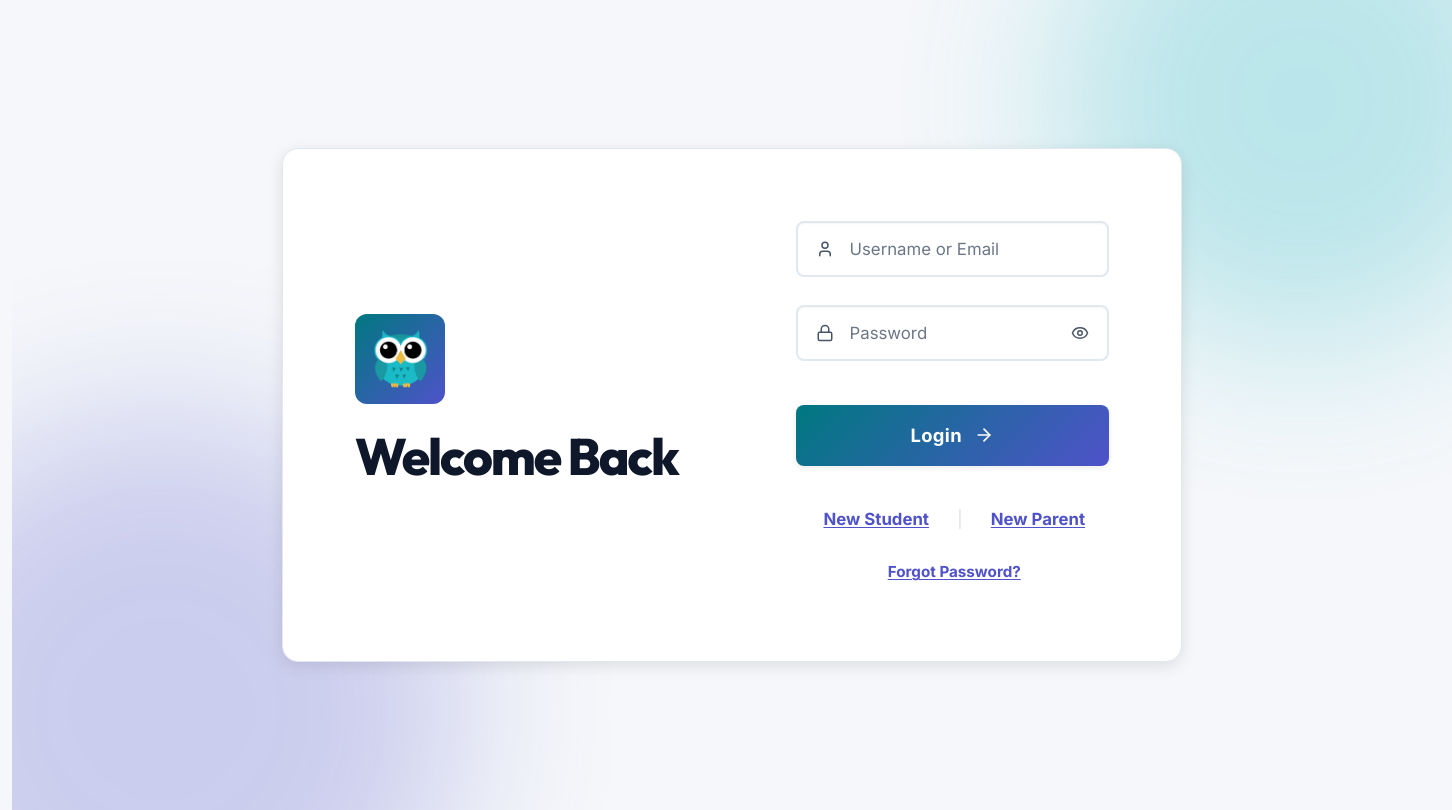
Test: Login Component › where the user is sent › finishes connecting a parent to a child when a connection code is waiting
Type "testuser" into the field with placeholder "Username or Email". click: (952, 249)
box: [796,221,1109,277]
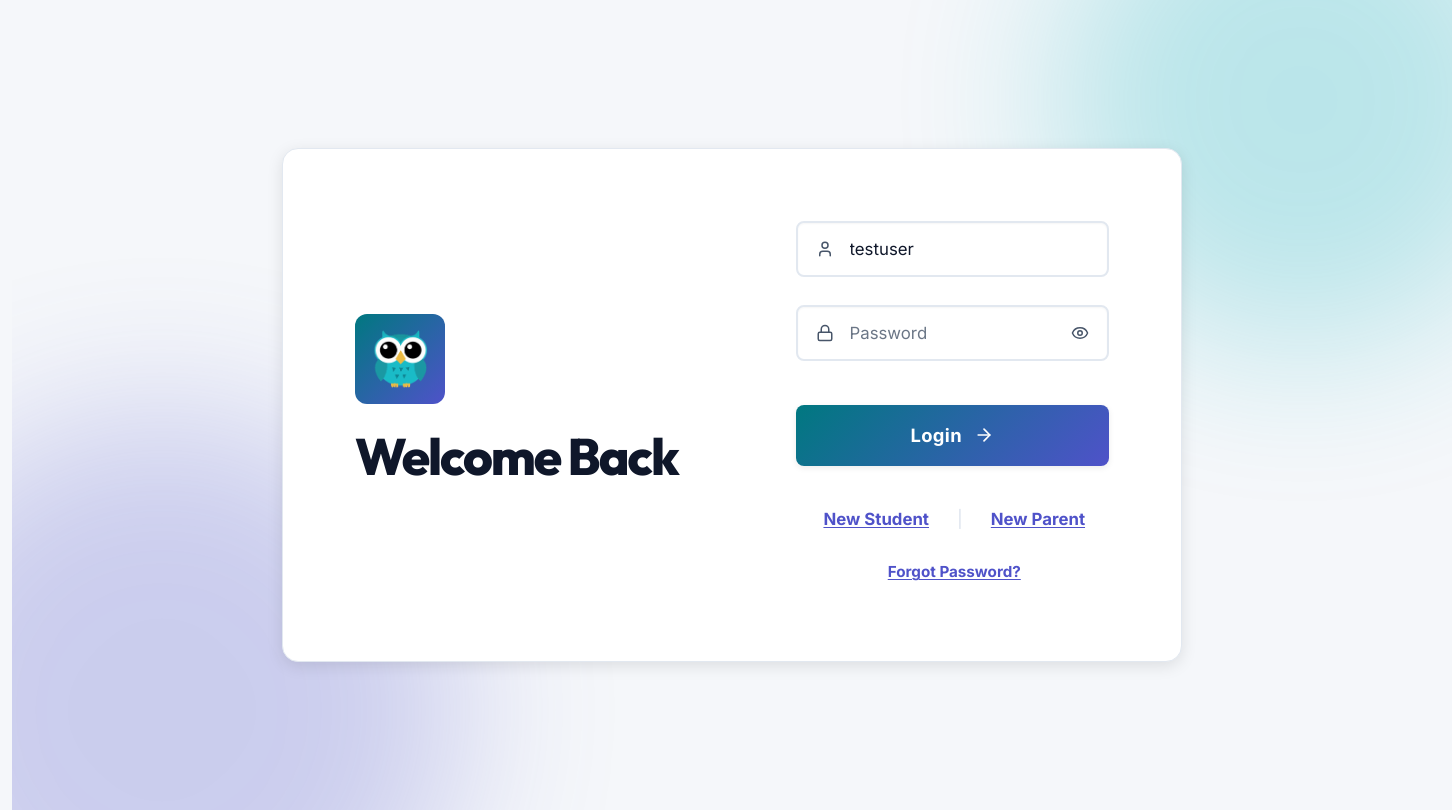
Type "password123" into the password field with placeholder "Password". click: (952, 333)
box: [796,305,1109,361]
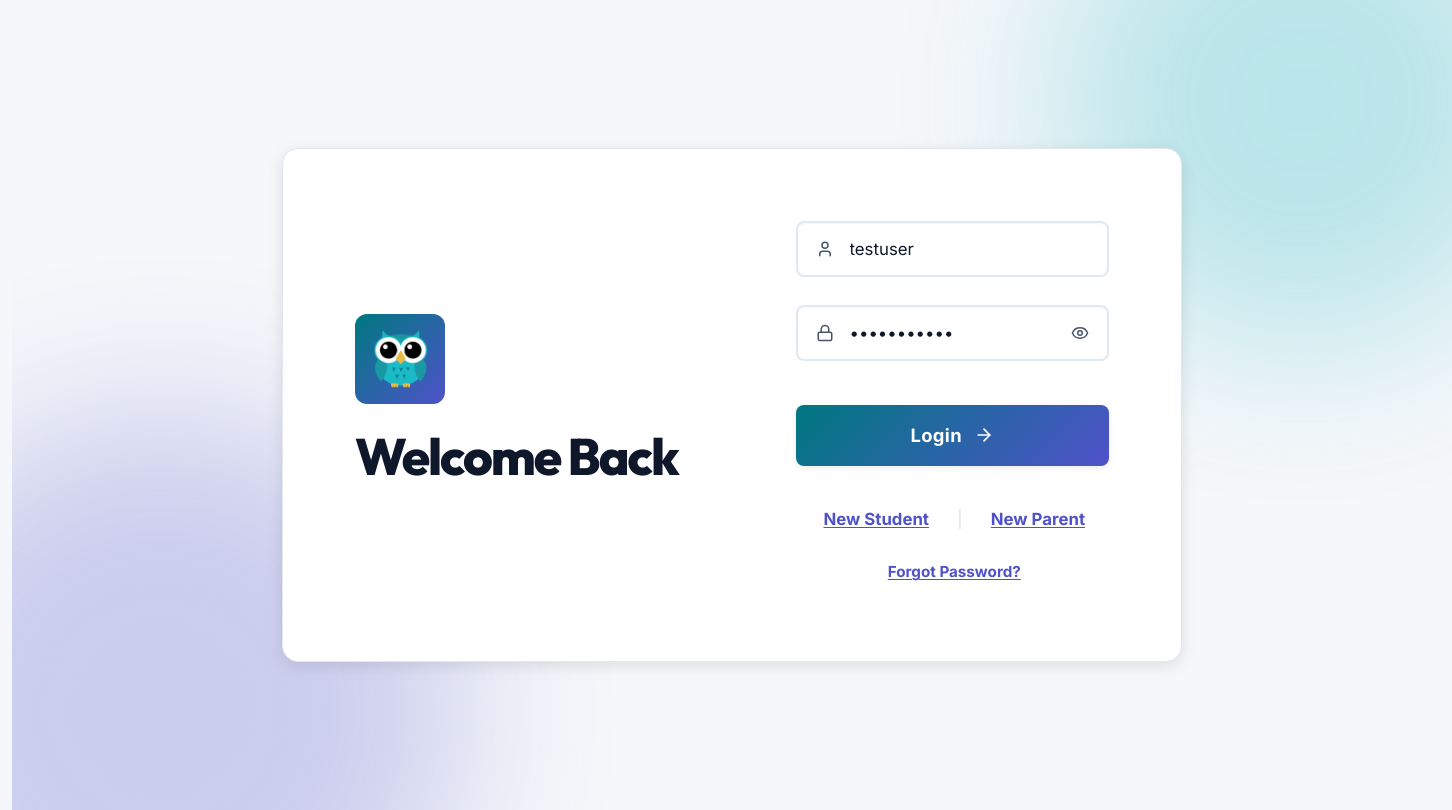
Click the button "Login". click: click(952, 435)
box: [796,405,1109,466]
(page scrolled)
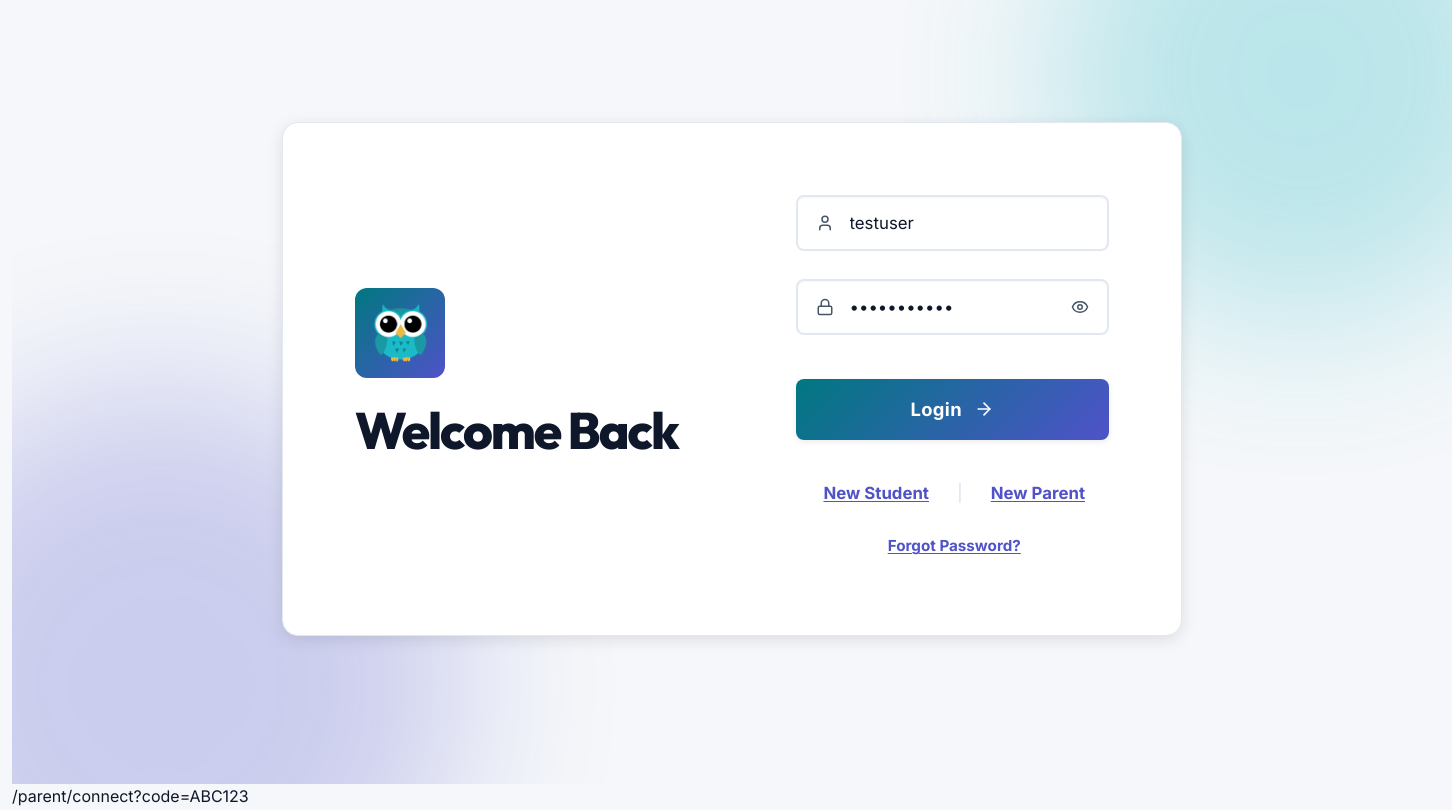
expect the text with test id "where" reads "/parent/connect?code=ABC123": met, box [12,786,249,806]
